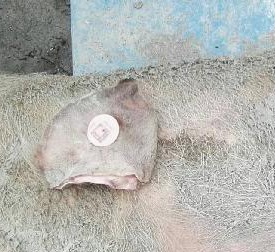text: (74, 103, 134, 158)
